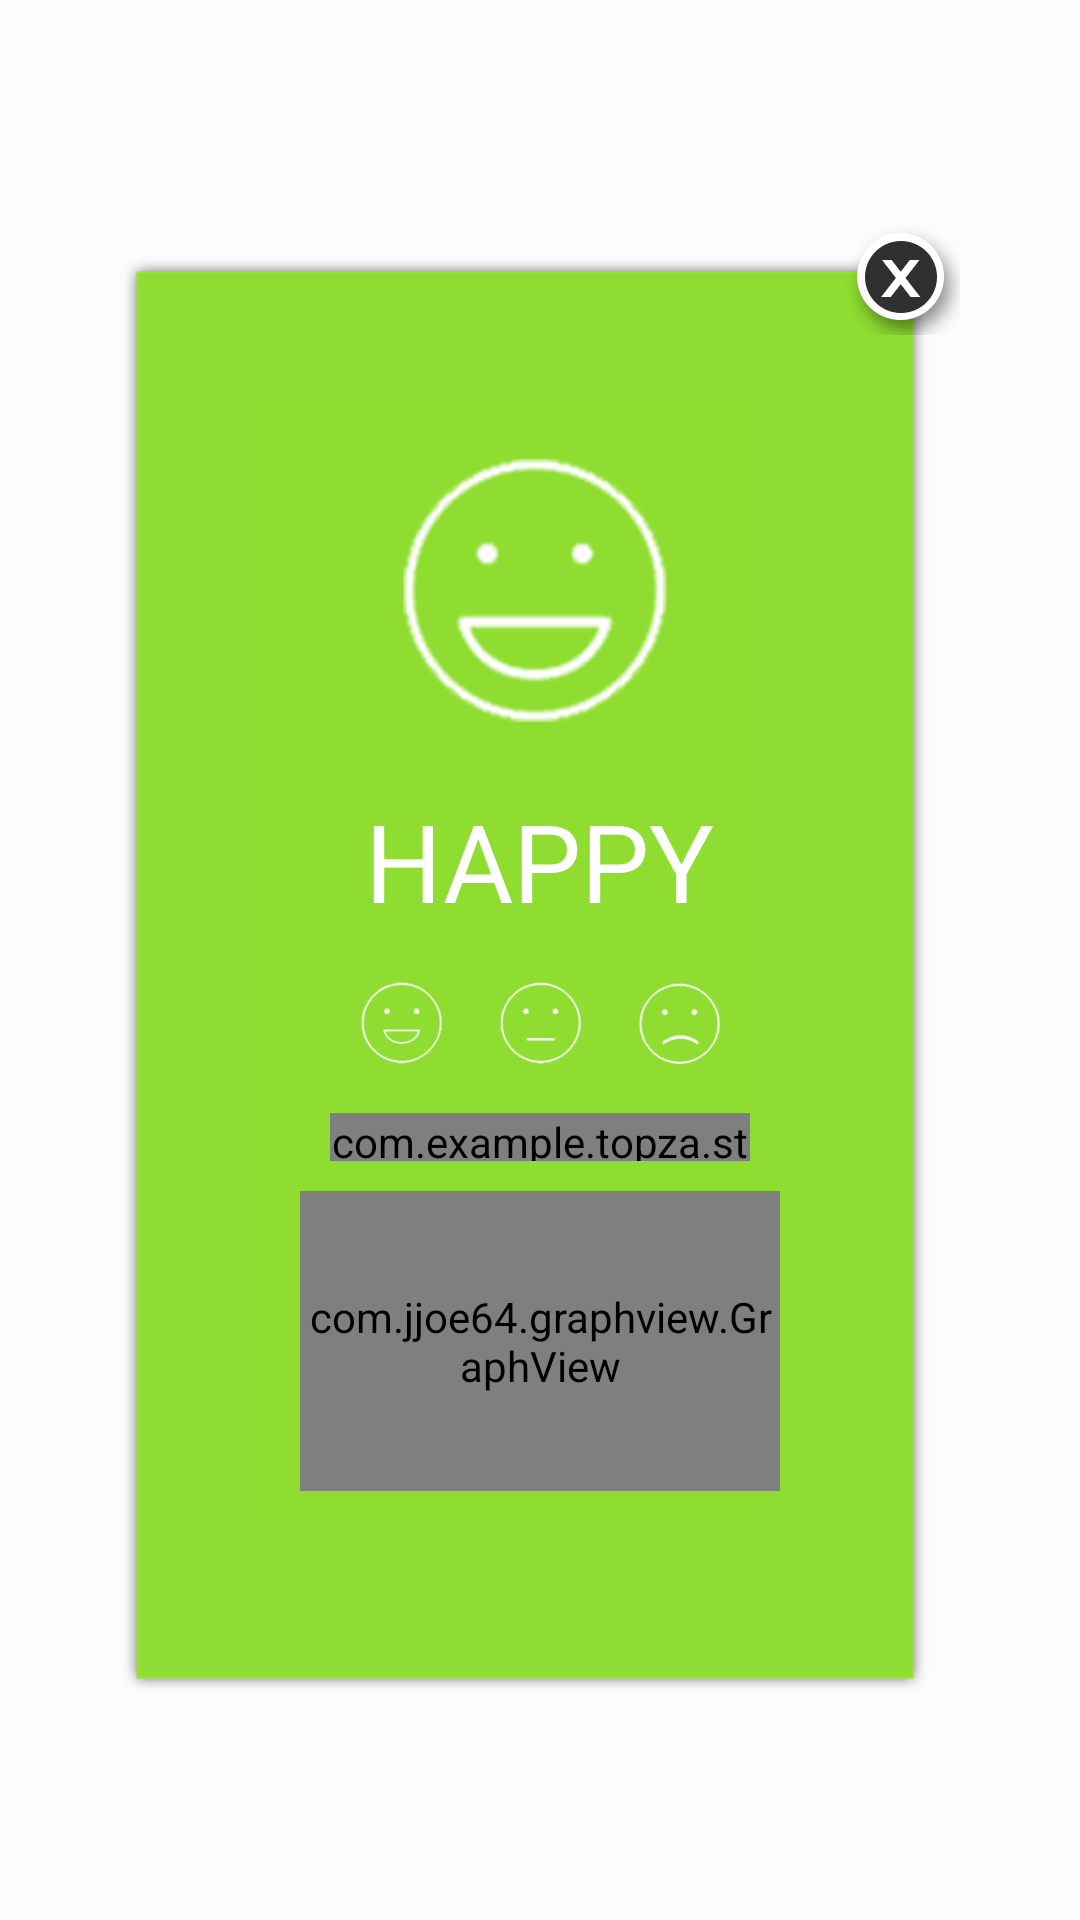

Icons on this 1080x1920 Android screen, each with the point to tap as (x=x, y=y):
smile: (x=535, y=590)
threeface: (x=540, y=1023)
